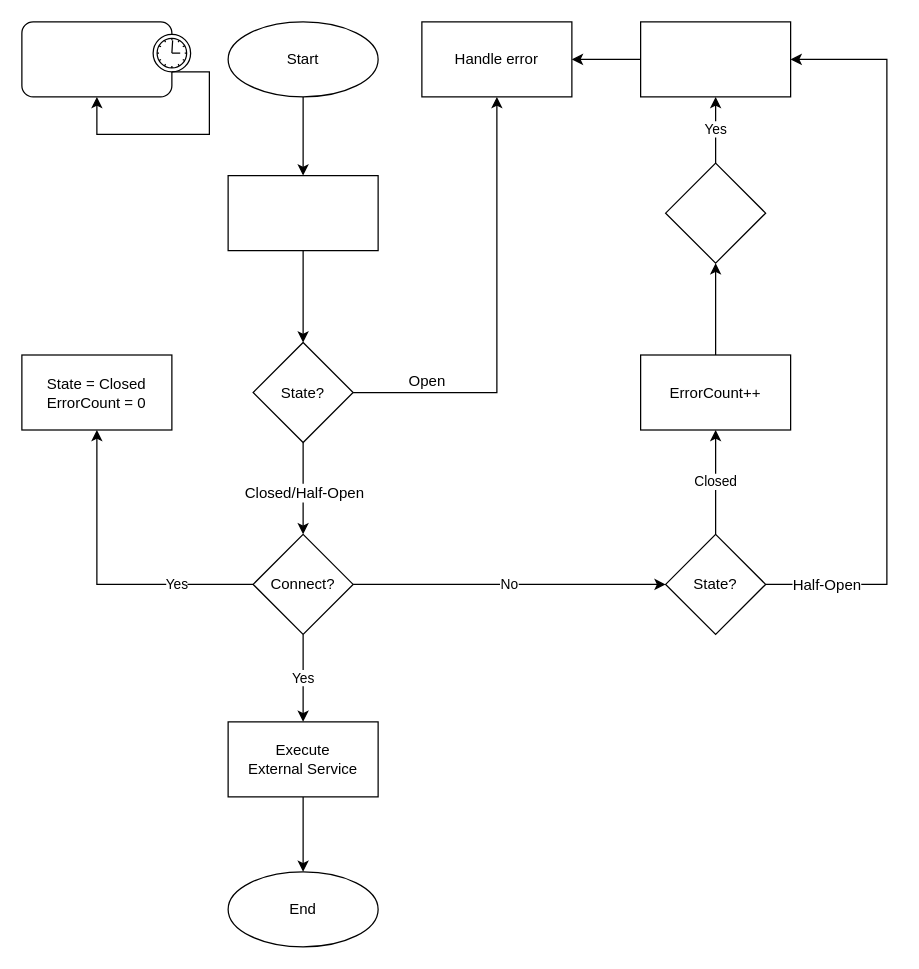
This 919x969 diagram has some shape labels left out. Here are the shapes that lost their labels. From the top down, the centre of each, then its label:
At (96,59): "Timer State = Half-Open".
At (715,59): "State = Open Start Timer".
At (302,212): "Call to external service".
At (715,212): "Max attempts reached".
